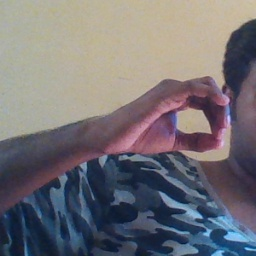O: (100, 73, 235, 160)
